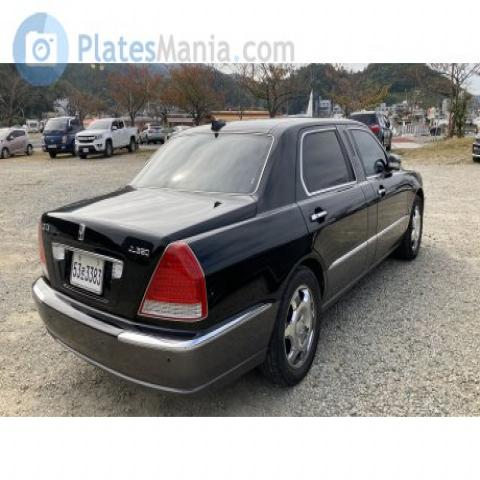LP: (52, 242, 115, 298)
